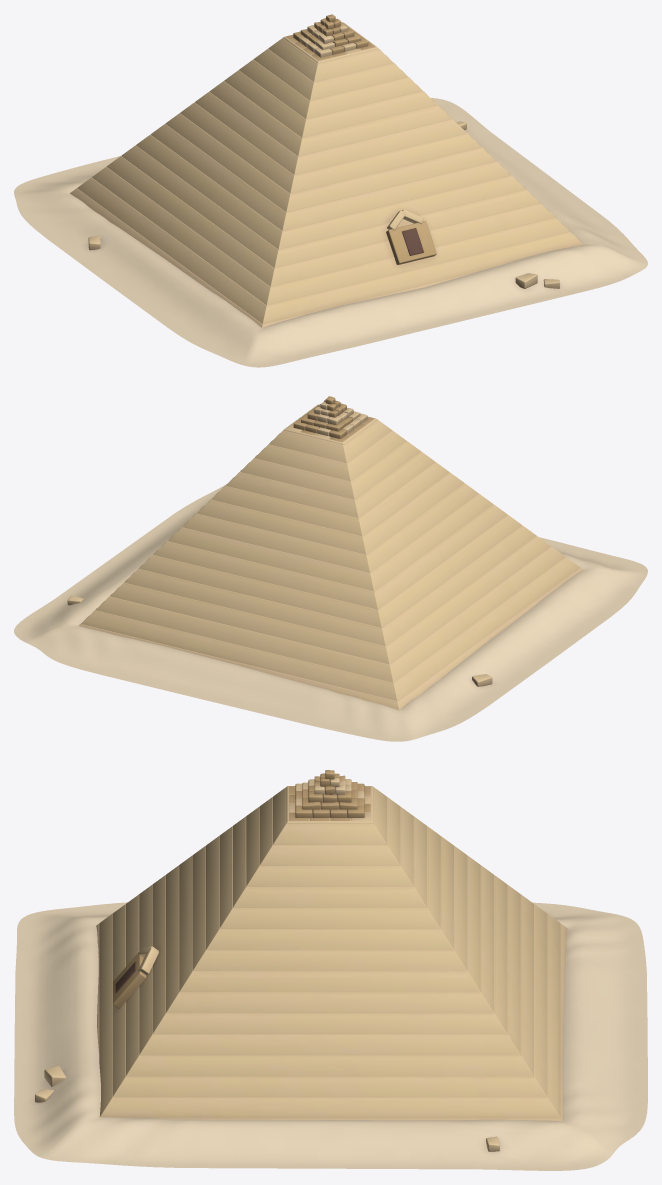
The model's file is Egypt_PyramidGiza_Stylised_CC0.fbx.
3 renders of one model, top to bottom at view 1: azimuth 30°, elevation 25°; view 2: azimuth 150°, elevation 25°; view 3: azimuth 270°, elevation 25°, orthographic. The views are drawn at different scales.
Visible parts, largest first — view 1: egyptian-pyramid_body; view 2: egyptian-pyramid_body; view 3: egyptian-pyramid_body.
Part boxes in pixels (left/top/right/bottom): egyptian-pyramid_body: left=14, top=14, right=647, bottom=367; egyptian-pyramid_body: left=14, top=396, right=647, bottom=741; egyptian-pyramid_body: left=14, top=770, right=647, bottom=1170.
Bounding box in the file's own units: 47.02 × 21.54 × 46.68.
1 material, 1 textured.
